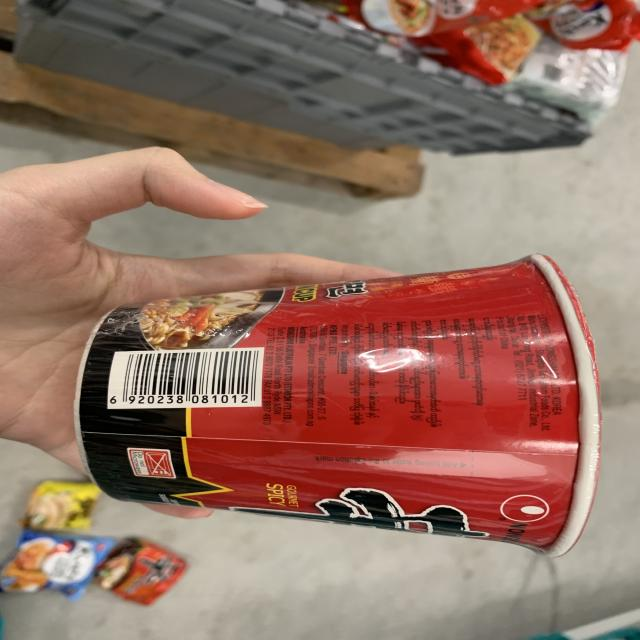object_name: (87, 266, 581, 537)
